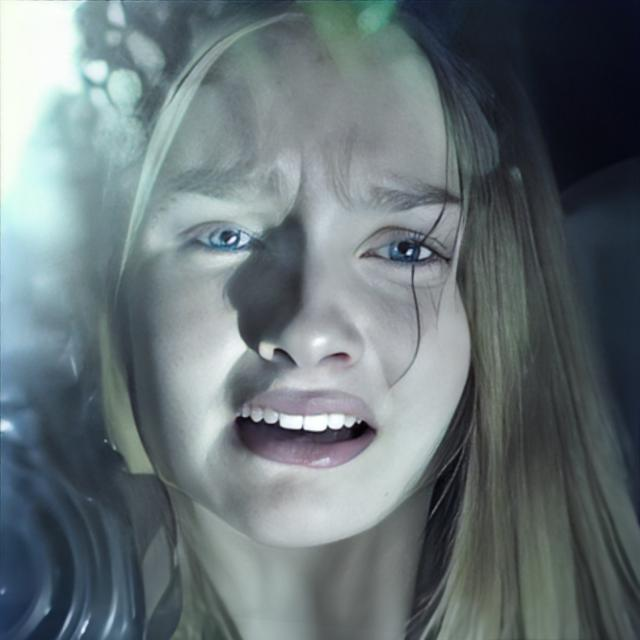fear: (121, 8, 479, 552)
